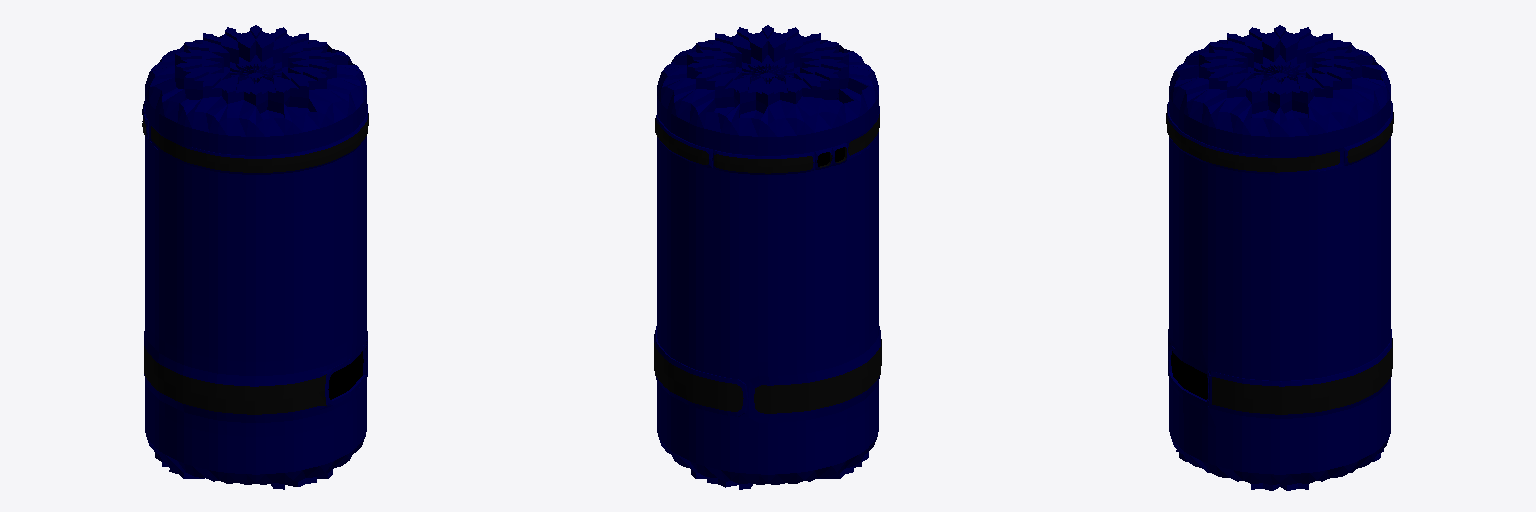
The model's file is SpaceBarrel.obj.
The picture shows the model from 3 angles: view 1: azimuth 30°, elevation 25°; view 2: azimuth 150°, elevation 25°; view 3: azimuth 270°, elevation 25°; orthographic projection.
Parts seen in each view (by area): view 1: Cylinder001, Object005, Object001, Object002; view 2: Cylinder001, Object005, Object001; view 3: Cylinder001, Object005, Object001, Object002.
Part boxes in pixels (x1,y1,x2,y2): Cylinder001: (142, 25, 367, 489); Object005: (144, 346, 326, 414); Object001: (142, 113, 368, 172); Object002: (328, 351, 363, 399); Cylinder001: (654, 25, 880, 489); Object005: (654, 339, 881, 413); Object001: (655, 114, 879, 173); Cylinder001: (1167, 25, 1392, 490); Object005: (1212, 338, 1392, 414); Object001: (1166, 112, 1393, 172); Object002: (1171, 351, 1207, 399).
Bounding box in the file's own units: 21.43 × 40.59 × 21.34.